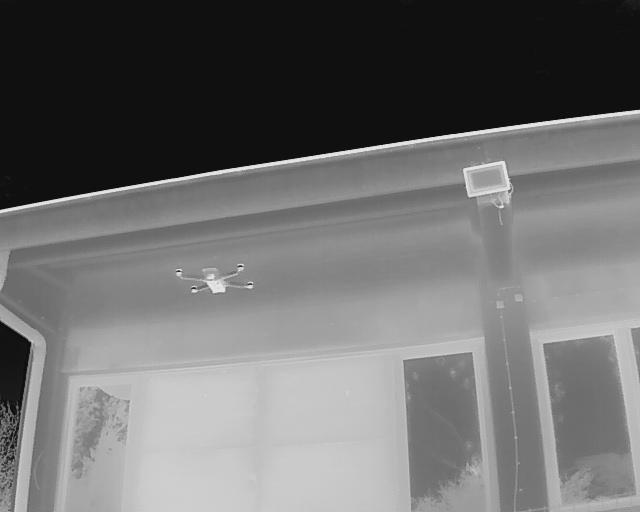drone: (157, 247, 263, 305)
